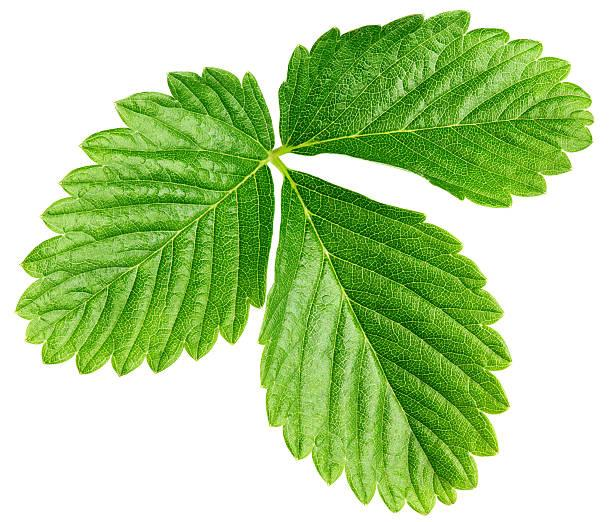Strawberry leaf: (254, 163, 514, 522), (11, 60, 276, 379), (279, 2, 587, 170)
